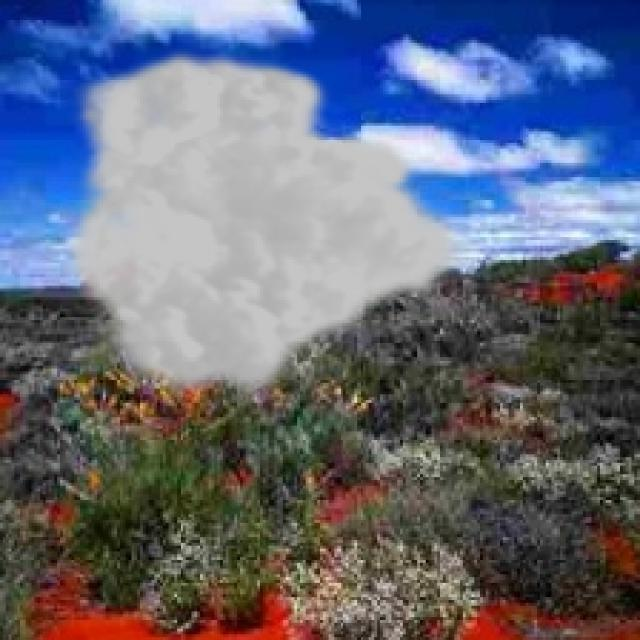Smoke: (62, 46, 472, 406)
